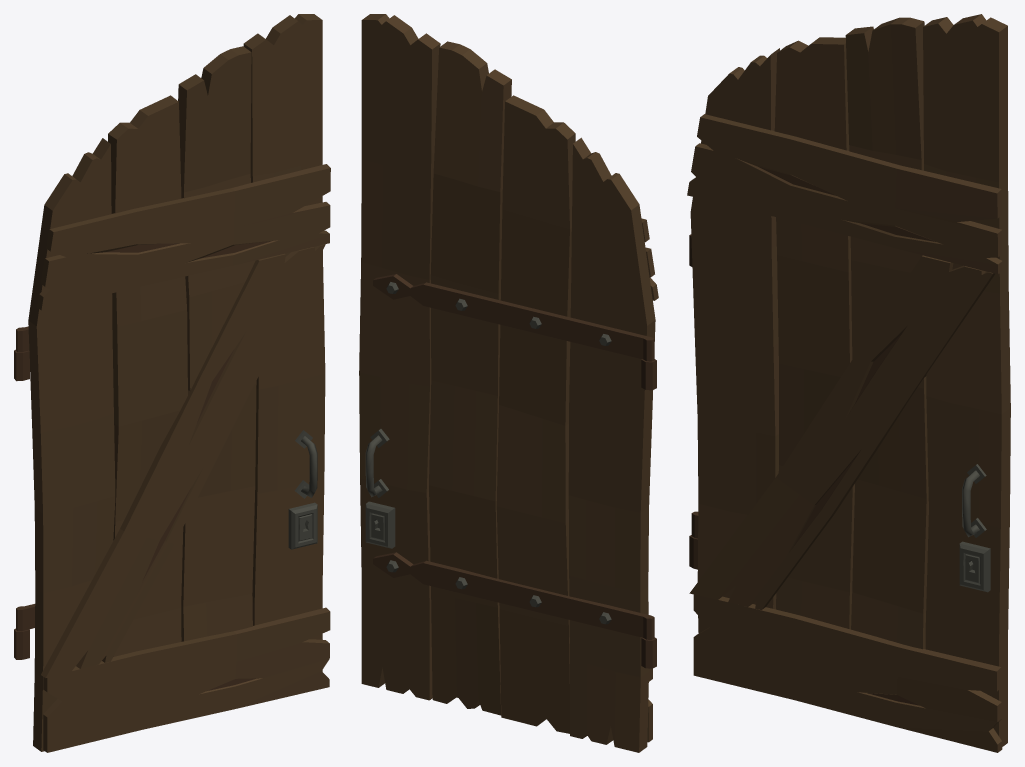
The model's file is wood_gate_door_L.gltf.
The picture shows the model from 3 angles, left to right: view 1: azimuth 30°, elevation 25°; view 2: azimuth 150°, elevation 25°; view 3: azimuth 330°, elevation 25°; orthographic projection. The views are drawn at different scales.
Visible parts, largest first — view 1: DoorGate_Wooden_Left.001; view 2: DoorGate_Wooden_Left.001; view 3: DoorGate_Wooden_Left.001.
Part boxes in pixels (x1,y1,x2,y2): DoorGate_Wooden_Left.001: (14, 14, 330, 752); DoorGate_Wooden_Left.001: (359, 14, 658, 752); DoorGate_Wooden_Left.001: (687, 14, 1010, 752).
Size of the model in its own units: 1.73 by 3.69 by 0.3497.
2 materials, 2 textured.
